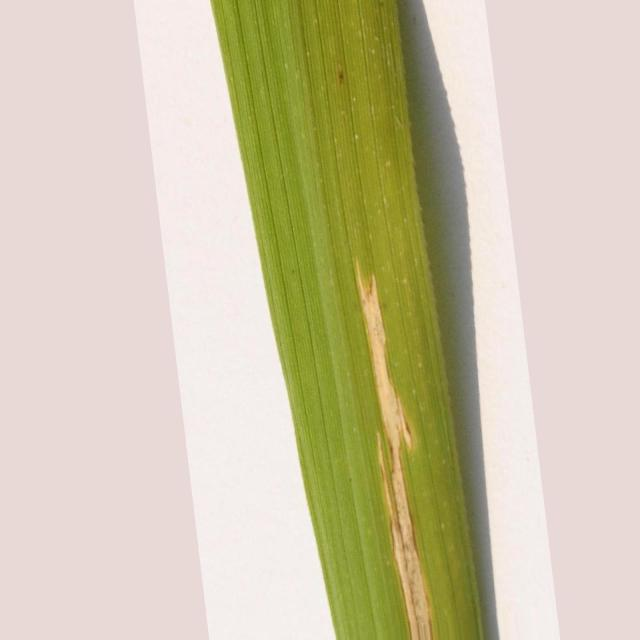Bacterial_Leaf_Blight: (358, 275, 432, 639)
